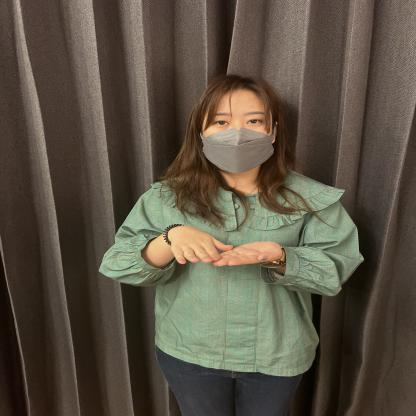Love: (106, 190, 364, 307)
